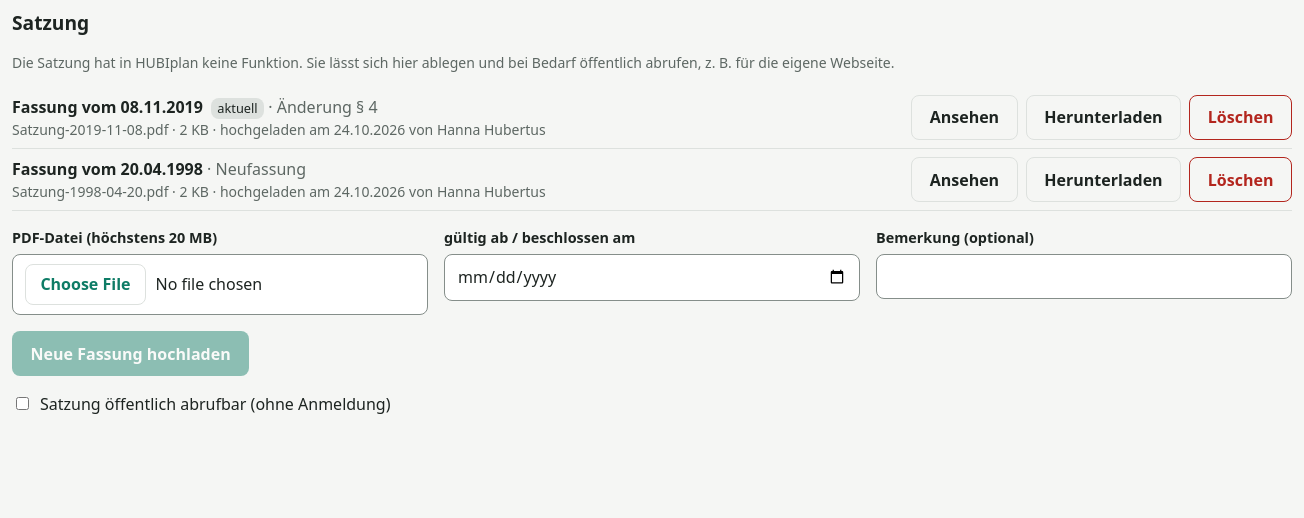
Test: Satzung › zeigt Fassungen, die aktuelle zuerst, und schaltet den öffentlichen Link ein
Expected: the text "Fassung vom 08.11.2019" is shown, [12,96,203,118]
Expected: the text "Fassung vom 20.04.1998" is shown, [12,158,203,180]
Click the checkbox labelled "Satzung öffentlich abrufbar (ohne Anmeldung)".
click(22, 404)  # box [16,397,29,410]
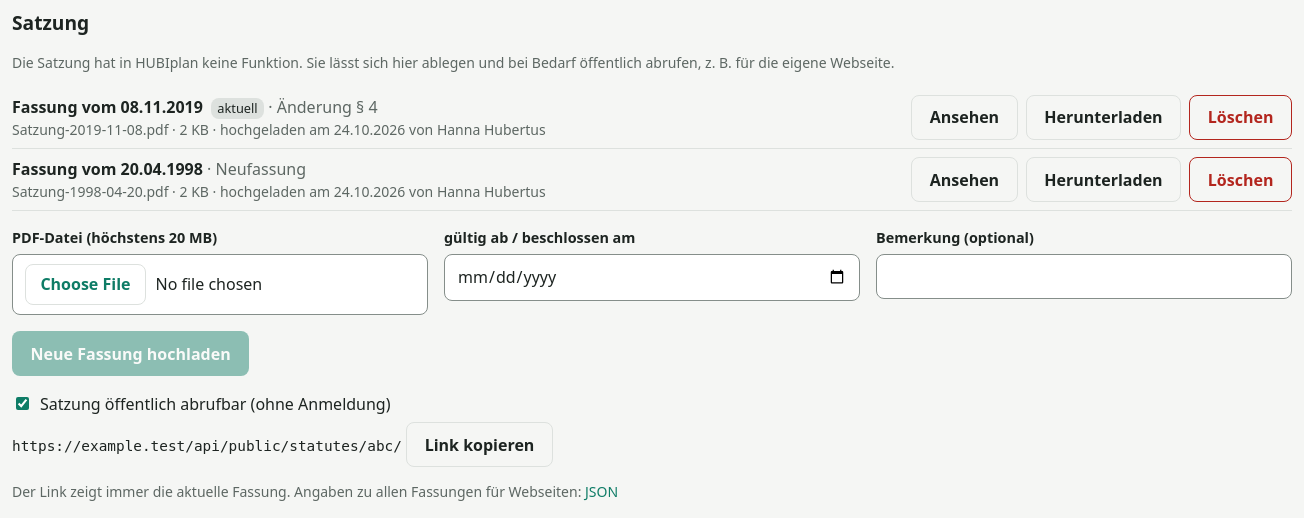
Expected: the text "https://example.test/api/public/statutes/abc/" is shown, [12,438,402,454]
